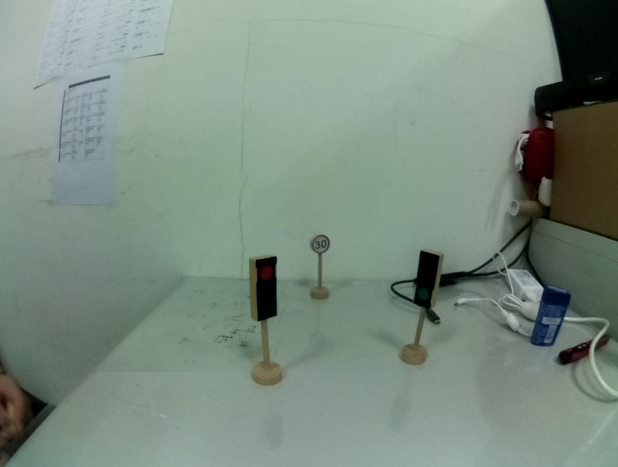Green: (410, 247, 447, 311)
Red: (245, 253, 284, 325)
Speed30: (308, 230, 334, 257)
